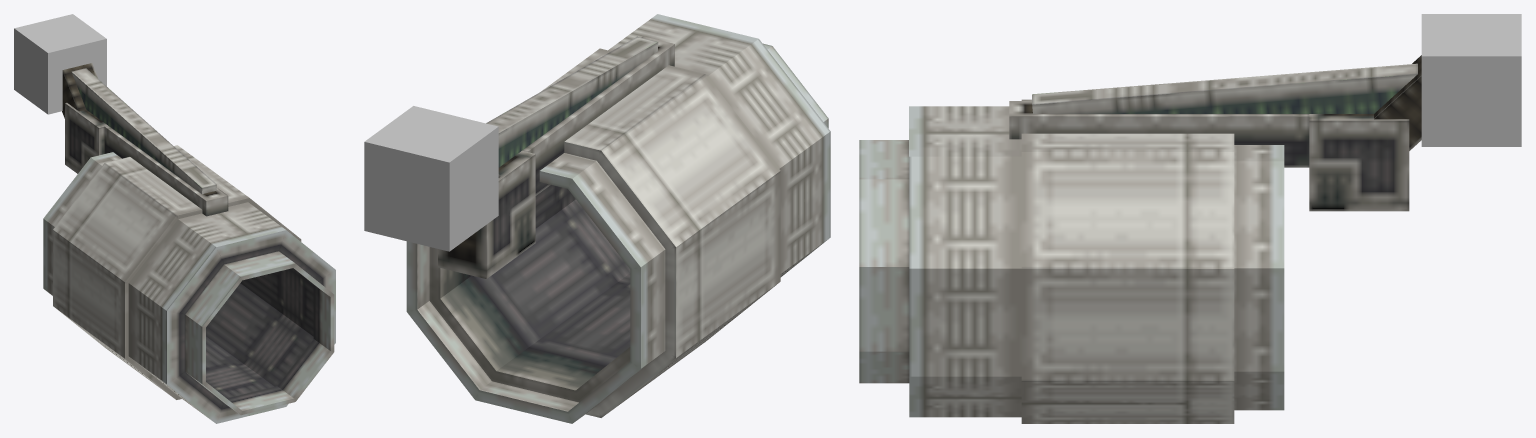
The model's file is block.obj.
3 views of the same model, side by side, from view 1: azimuth 30°, elevation 25°; view 2: azimuth 150°, elevation 25°; view 3: azimuth 270°, elevation 25° (orthographic). The views are drawn at different scales.
Parts seen in each view (by area): view 1: casing, casing_interior, mount, intakecowling, sproing, mesh; view 2: casing, intakecowling, casing_interior, mount, mesh, sproing; view 3: casing, intakecowling, mesh, sproing, mount, casing_interior.
Boxes of the visible parts, left/top/right/bottom form: casing: left=67, top=156, right=335, bottom=423; casing_interior: left=185, top=251, right=330, bottom=413; mount: left=14, top=14, right=106, bottom=114; intakecowling: left=43, top=145, right=191, bottom=355; sproing: left=62, top=63, right=216, bottom=194; mesh: left=65, top=102, right=228, bottom=216; casing: left=541, top=14, right=830, bottom=399; intakecowling: left=406, top=126, right=697, bottom=423; casing_interior: left=476, top=43, right=828, bottom=364; mount: left=364, top=106, right=498, bottom=251; mesh: left=438, top=36, right=674, bottom=278; sproing: left=486, top=36, right=658, bottom=177; casing: left=909, top=99, right=1190, bottom=423; intakecowling: left=1190, top=133, right=1284, bottom=423; mesh: left=1009, top=101, right=1409, bottom=211; sproing: left=1032, top=55, right=1421, bottom=150; mount: left=1421, top=14, right=1521, bottom=146; casing_interior: left=859, top=140, right=909, bottom=383.
Bounding box in the file's own units: 3 × 4 × 6.62.
